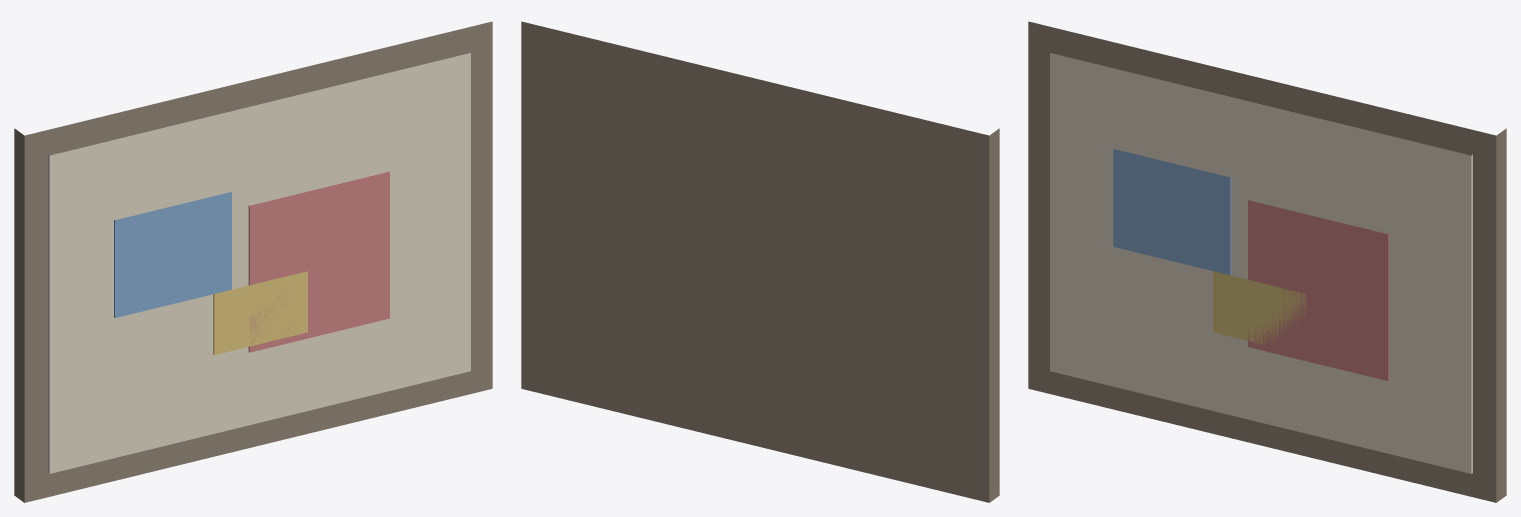
File: wall_art.glb
The picture shows the model from 3 angles, left to right: view 1: azimuth 30°, elevation 25°; view 2: azimuth 150°, elevation 25°; view 3: azimuth 330°, elevation 25°; orthographic projection.
Size of the model in its own units: 0.8 by 0.6 by 0.038.
